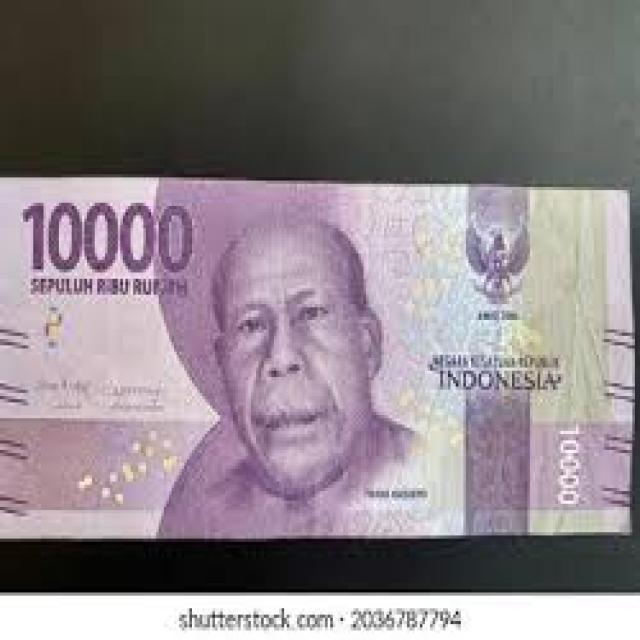sepuluh ribu rupiah: (0, 187, 627, 535)
